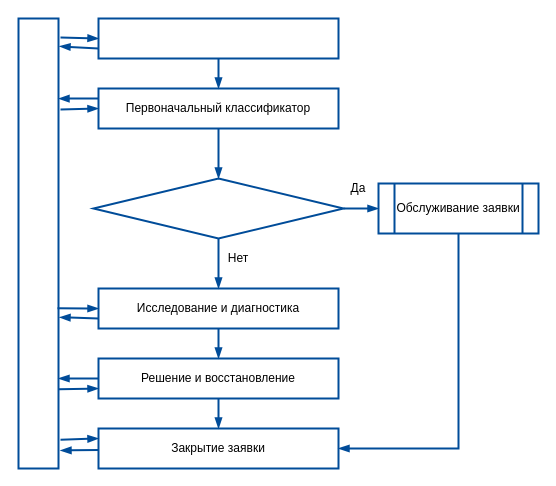
Image size: 556x486. Some labels were removed from this diagram. The centre of each missing label's shape, as x and y in pixels:
Запрос на обслуживание: point 218,208
Подсистема зранения, связи и мониторинга инциндентов: point 38,243
Прием запроса: point 218,38
